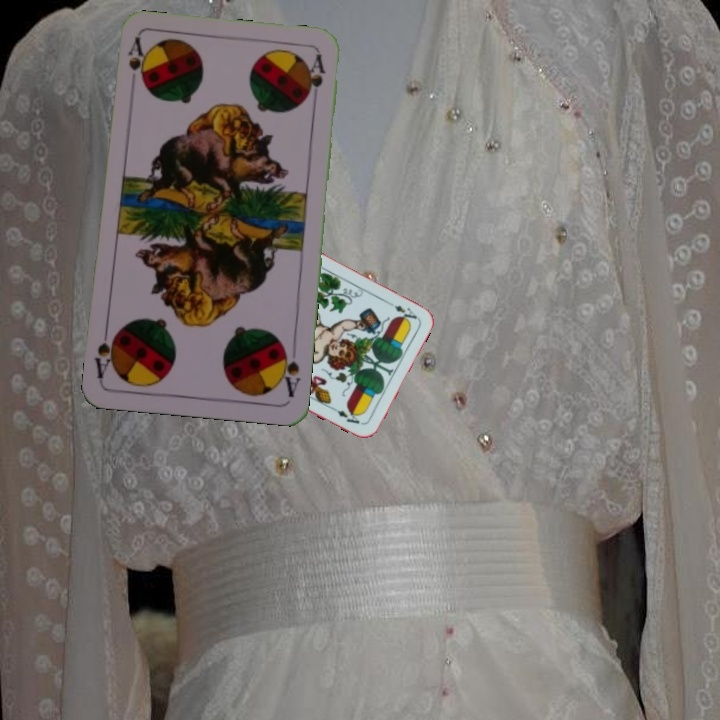EA: (382, 297, 419, 323)
SA: (275, 341, 303, 400), (124, 35, 147, 84)
